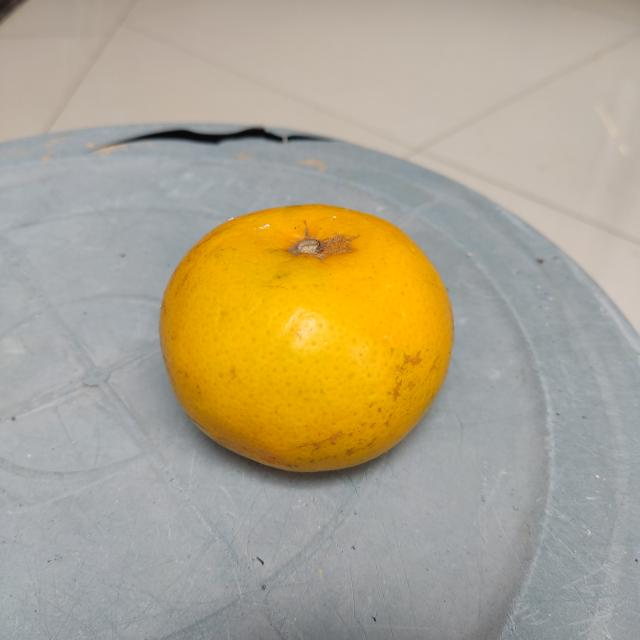orange: (155, 204, 454, 482)
